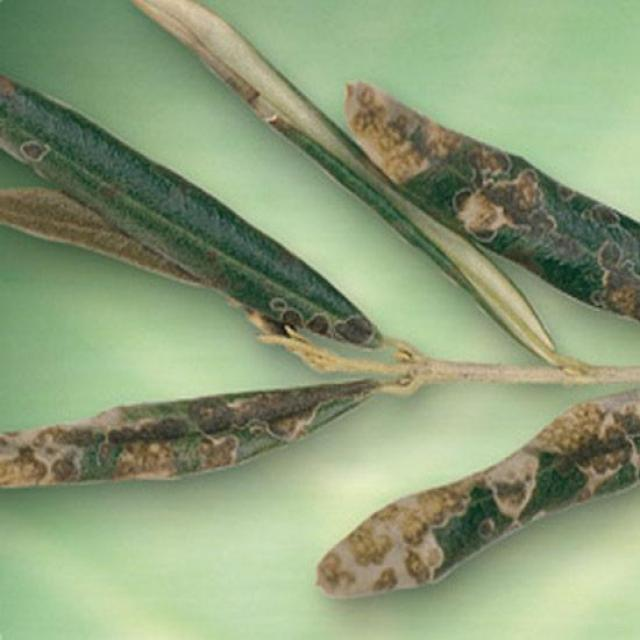OlivePeacockSpot: (0, 74, 382, 346), (344, 83, 638, 320), (318, 389, 639, 598), (0, 381, 378, 486)
